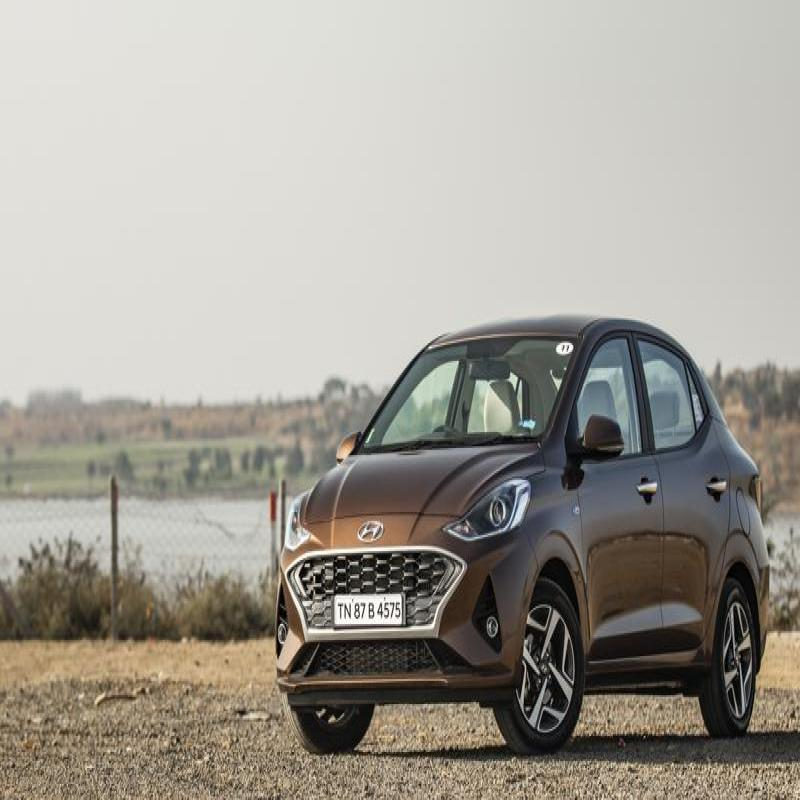car: (258, 310, 777, 768)
